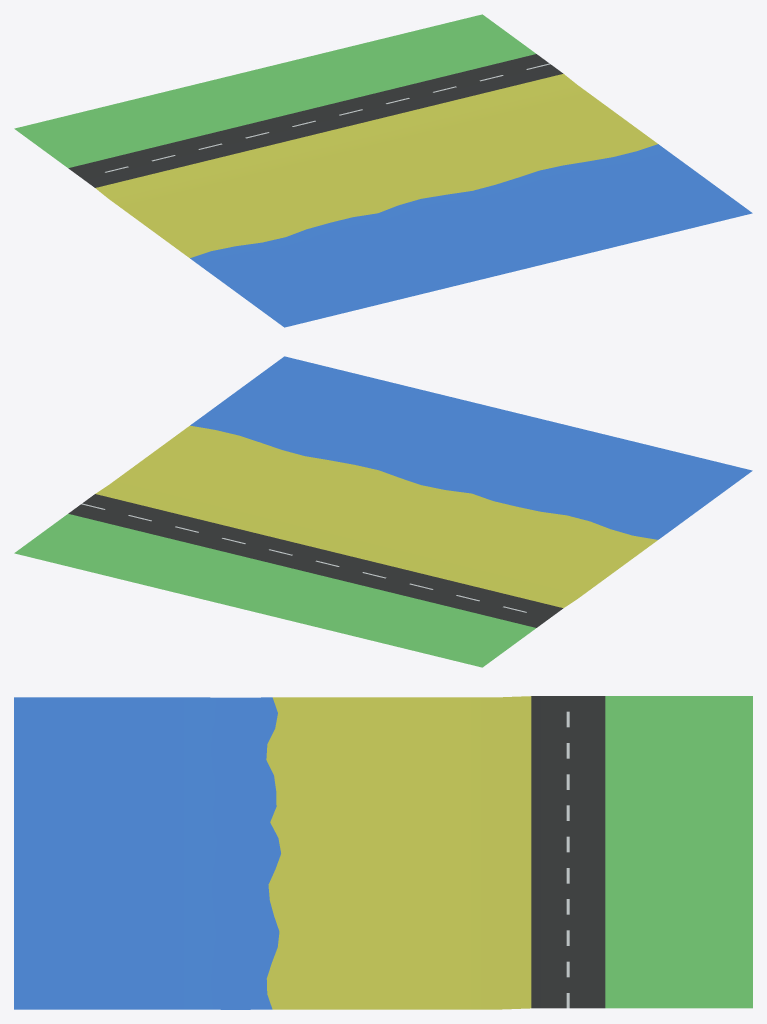
The model's file is Map5.fbx.
3 renders of one model, top to bottom at view 1: azimuth 30°, elevation 25°; view 2: azimuth 150°, elevation 25°; view 3: azimuth 270°, elevation 25°, orthographic. The views are drawn at different scales.
Parts seen in each view (by area): view 1: Plane; view 2: Plane; view 3: Plane.
Part boxes in pixels (left/top/right/bottom): Plane: left=14, top=14, right=752, bottom=327; Plane: left=14, top=356, right=752, bottom=667; Plane: left=14, top=696, right=752, bottom=1009.
Bounding box in the file's own units: 10000 × 21 × 10000.
